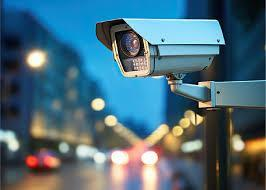Monitor: (85, 17, 251, 108)
